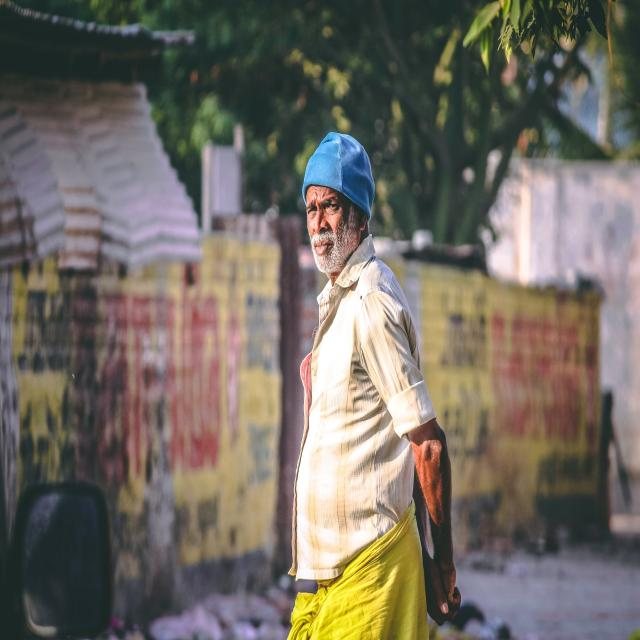adult: (293, 136, 458, 640)
